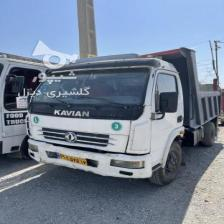plate: (55, 152, 86, 165)
